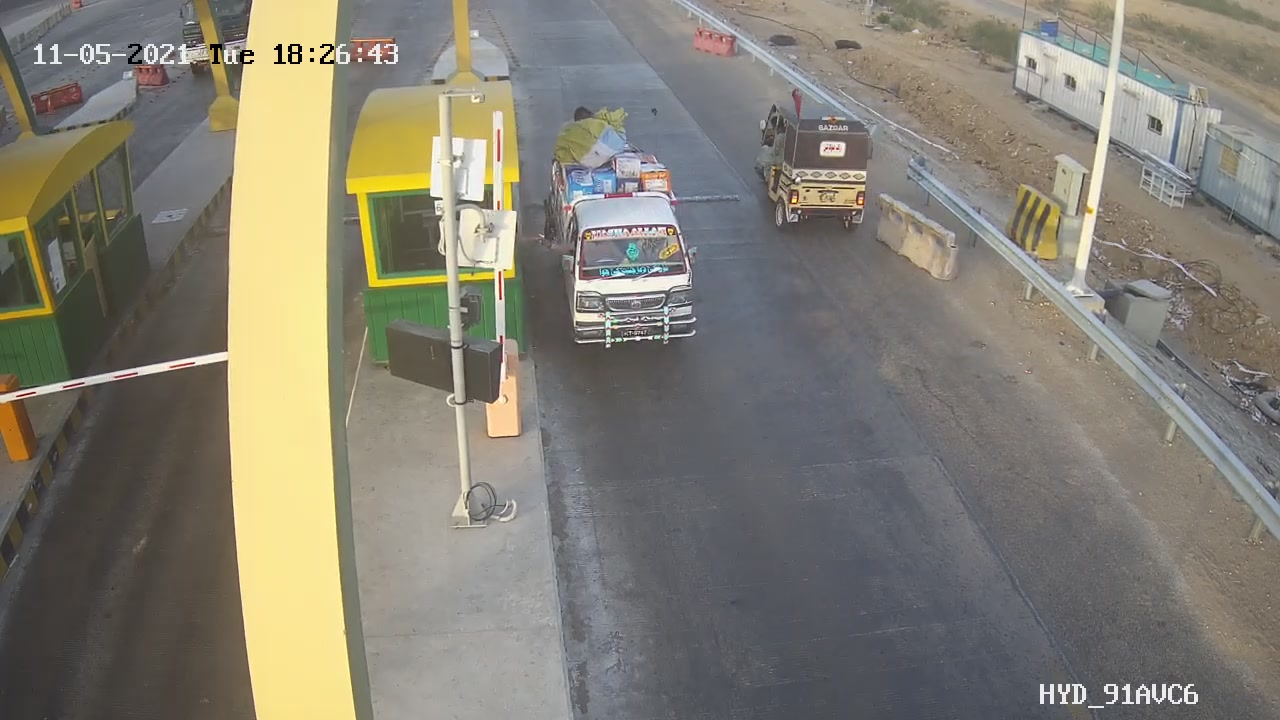F1: (534, 131, 696, 358)
